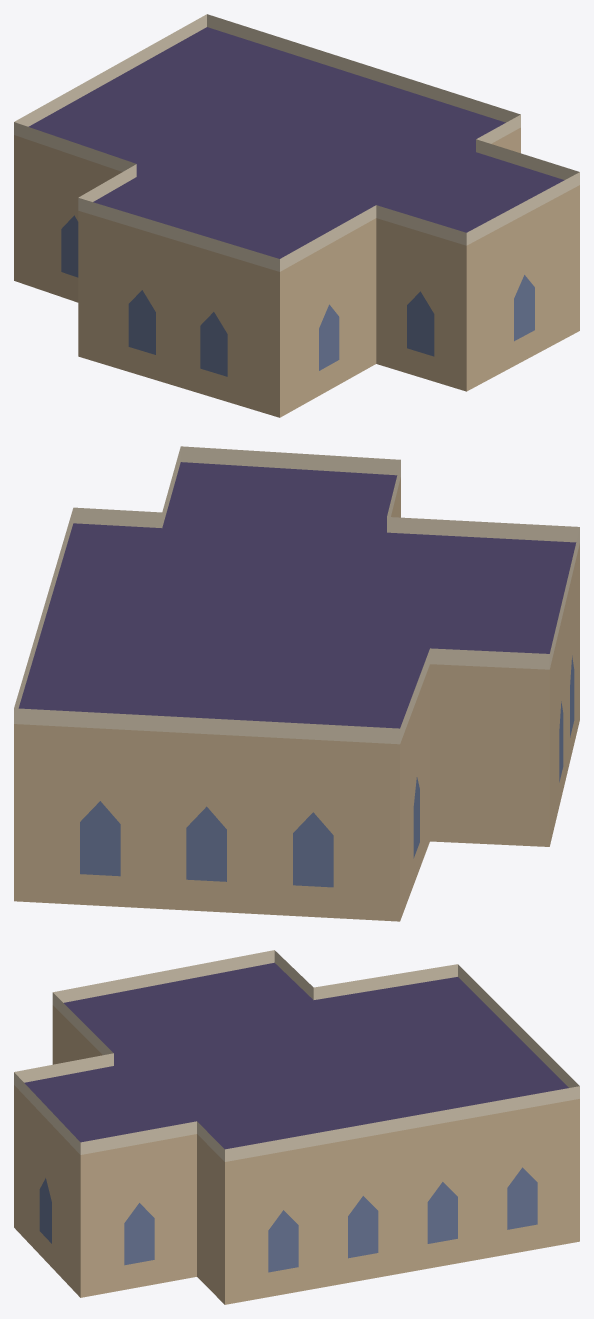
Rendered from b-010-apps-international-house-day.glb.
3 views of the same model, one above another, from view 1: azimuth 30°, elevation 25°; view 2: azimuth 150°, elevation 25°; view 3: azimuth 270°, elevation 25° (orthographic). The views are drawn at different scales.
Visible parts, largest first — view 1: campus/b-010-apps-international-house-day-0; view 2: campus/b-010-apps-international-house-day-0; view 3: campus/b-010-apps-international-house-day-0.
Boxes of the visible parts, left/top/right/bottom form: campus/b-010-apps-international-house-day-0: left=14, top=14, right=579, bottom=417; campus/b-010-apps-international-house-day-0: left=14, top=446, right=579, bottom=921; campus/b-010-apps-international-house-day-0: left=14, top=950, right=579, bottom=1304.
Size of the model in its own units: 18.56 by 6.75 by 22.26.
